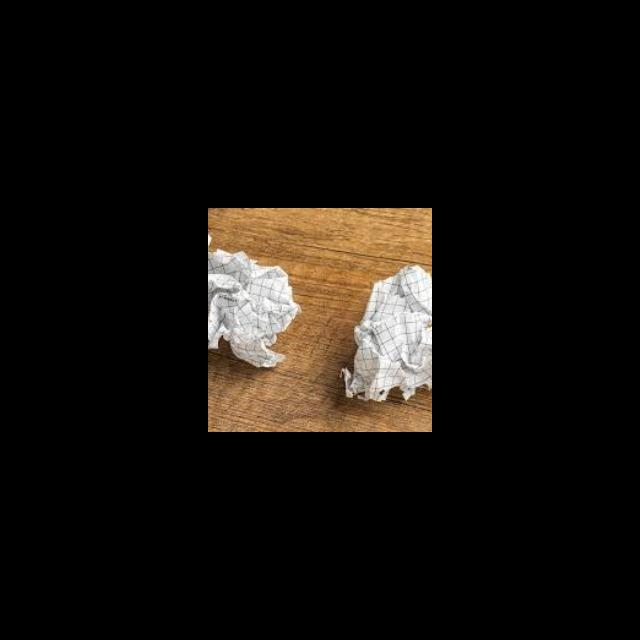paper: (335, 261, 432, 411), (208, 241, 302, 371)
